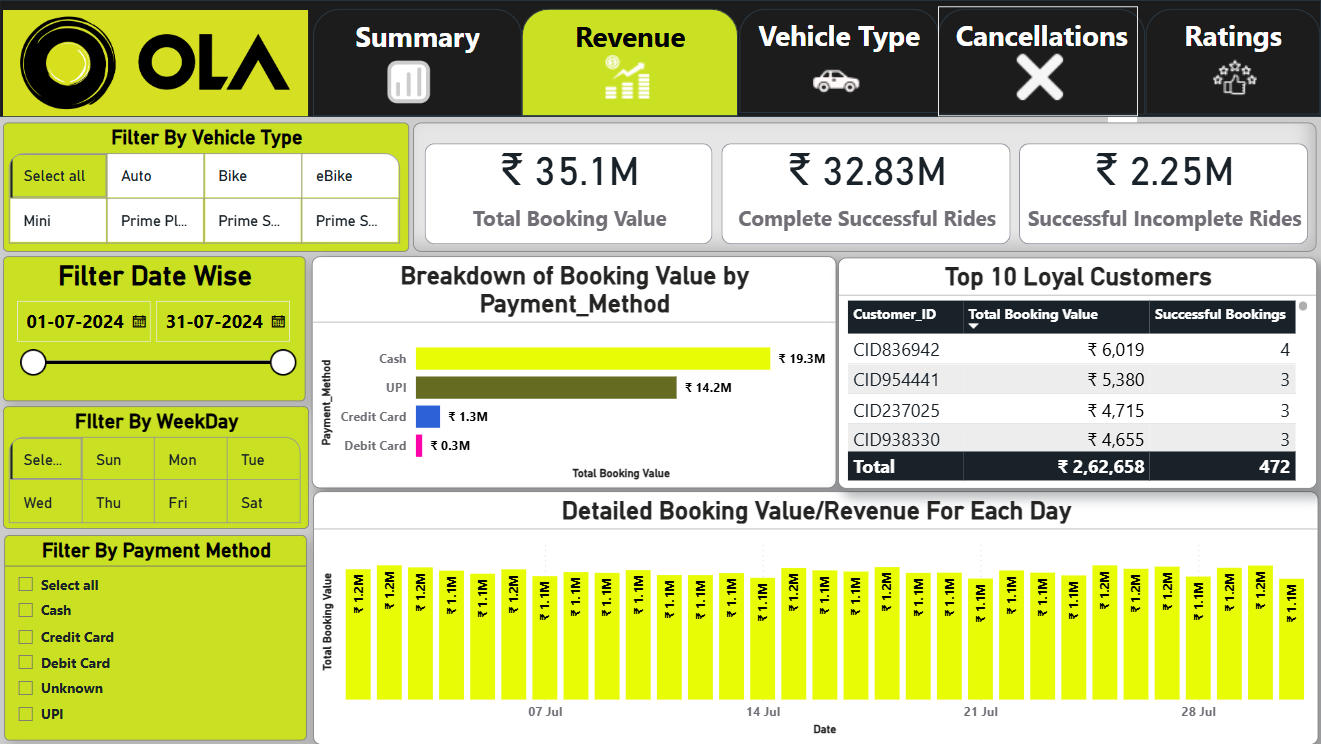

The page's visual inventory and layout, read from the dashboard file:
{"tool":"powerbi","page":{"name":"Revenue","canvas":[1280,720],"ordinal":1},"visuals":[{"type":"shape","box":[1.3,0,1276.2,112.9],"z":0},{"type":"group","id":"g1","title":"Group 3","box":[5.1,9.1,294.3,102.8],"z":1000},{"type":"group","id":"g2","title":"Group 1","box":[304.1,8.9,201.7,103.8],"z":2000},{"type":"shape","box":[304.1,8.9,201.7,103.8],"z":2000,"group":"g2"},{"type":"shape","box":[5.1,9.1,294.3,102.8],"z":2000,"group":"g1"},{"type":"group","id":"g3","title":"Group 2","box":[505.8,8.9,209.1,103.8],"z":3000},{"type":"shape","box":[505.8,8.9,209.1,103.8],"z":3000,"group":"g3"},{"type":"image","box":[5.1,9.1,294.3,102.8],"z":3000,"group":"g1"},{"type":"group","id":"g4","title":"Group 4","box":[714.9,8.9,192.8,101],"z":4000},{"type":"shape","box":[714.9,8.9,192.8,100.9],"z":4000,"group":"g4"},{"type":"group","id":"g5","title":"Group 5","box":[907.7,8.9,200.2,102.3],"z":5000},{"type":"shape","box":[907.7,8.9,200.2,102.3],"z":5000,"group":"g5"},{"type":"group","id":"g6","title":"Group 6","box":[1107.9,8.9,169.1,102.3],"z":6000},{"type":"shape","box":[1107.9,8.9,169.1,102.3],"z":6000,"group":"g6"},{"type":"actionButton","box":[298.1,7.4,209.1,106.8],"z":7000},{"type":"image","box":[580.3,47.6,54.9,54.9],"z":7001,"group":"g3"},{"type":"image","box":[781.8,55,54.9,54.9],"z":7002,"group":"g4"},{"type":"image","box":[979.3,47.6,54.9,54.9],"z":7003,"group":"g5"},{"type":"image","box":[1167.3,47.6,54.9,54.9],"z":7004,"group":"g6"},{"type":"actionButton","box":[714.9,4.4,192.8,106.8],"z":8000},{"type":"image","box":[369.3,52.1,54.9,54.9],"z":8500,"group":"g2"},{"type":"actionButton","box":[907.7,5.9,192.8,106.8],"z":9000},{"type":"actionButton","box":[1107.9,7.4,172.1,103.8],"z":10000},{"type":"actionButton","box":[505.8,4.4,209.1,106.8],"z":11000},{"type":"slicer","title":"Filter By Payment Method","fields":{"Values":["OLA Dataset.Payment_Method"]},"box":[5.8,516.5,292.2,198.2],"z":12000},{"type":"slicer","title":"Filter Date Wise","fields":{"Values":["OLA Dataset.Date"]},"box":[4.3,247.4,292.2,140.3],"z":13000},{"type":"advancedSlicerVisual","title":"FIlter By WeekDay","fields":{"Values":["OLA Dataset.Day Name"]},"box":[4.3,392,295.1,118.6],"z":14000},{"type":"advancedSlicerVisual","title":"Filter By Vehicle Type","fields":{"Values":["OLA Dataset.Vehicle_Type"]},"box":[4.3,118.6,392,124.4],"z":15000},{"type":"cardVisual","fields":{"Data":["OLA Dataset.Successful Booking Value","OLA Dataset.Amount From Complete Successful Rides","OLA Dataset.Amount From Incomplete Successful Rides"]},"box":[400.7,118.6,872.3,124.4],"z":16000},{"type":"clusteredBarChart","title":"Breakdown of Booking Value by Payment_Method","fields":{"Category":["OLA Dataset.Payment_Method"],"Y":["OLA Dataset.Total Booking Value"]},"box":[302.4,247.4,506.3,224.2],"z":17000},{"type":"clusteredColumnChart","title":"Detailed Booking Value/Revenue For Each Day","fields":{"Category":["OLA Dataset.Date"],"Y":["OLA Dataset.Total Booking Value"]},"box":[303.8,474.5,970.7,244.5],"z":18000},{"type":"tableEx","title":"Top 10 Loyal Customers","fields":{"Values":["OLA Dataset.Customer_ID","OLA Dataset.Total Booking Value","OLA Dataset.Successful Bookings"]},"box":[810.7,248.2,462.5,223.2],"z":19000}]}

Visuals, with their boxes in screenshot pixels (x1, y1, x2, y2), scaled from the page's 1280x720 canvas onto the 1321x744 screenshot:
shape: [x1=1, y1=0, x2=1318, y2=117]
"Group 3" group: [x1=5, y1=9, x2=309, y2=116]
"Group 1" group: [x1=314, y1=9, x2=522, y2=116]
shape: [x1=314, y1=9, x2=522, y2=116]
shape: [x1=5, y1=9, x2=309, y2=116]
"Group 2" group: [x1=522, y1=9, x2=738, y2=116]
shape: [x1=522, y1=9, x2=738, y2=116]
image: [x1=5, y1=9, x2=309, y2=116]
"Group 4" group: [x1=738, y1=9, x2=937, y2=114]
shape: [x1=738, y1=9, x2=937, y2=113]
"Group 5" group: [x1=937, y1=9, x2=1143, y2=115]
shape: [x1=937, y1=9, x2=1143, y2=115]
"Group 6" group: [x1=1143, y1=9, x2=1318, y2=115]
shape: [x1=1143, y1=9, x2=1318, y2=115]
actionButton: [x1=308, y1=8, x2=523, y2=118]
image: [x1=599, y1=49, x2=656, y2=106]
image: [x1=807, y1=57, x2=864, y2=114]
image: [x1=1011, y1=49, x2=1067, y2=106]
image: [x1=1205, y1=49, x2=1261, y2=106]
actionButton: [x1=738, y1=5, x2=937, y2=115]
image: [x1=381, y1=54, x2=438, y2=111]
actionButton: [x1=937, y1=6, x2=1136, y2=116]
actionButton: [x1=1143, y1=8, x2=1320, y2=115]
actionButton: [x1=522, y1=5, x2=738, y2=115]
"Filter By Payment Method" slicer: [x1=6, y1=534, x2=308, y2=739]
"Filter Date Wise" slicer: [x1=4, y1=256, x2=306, y2=401]
"FIlter By WeekDay" advancedSlicerVisual: [x1=4, y1=405, x2=309, y2=528]
"Filter By Vehicle Type" advancedSlicerVisual: [x1=4, y1=123, x2=409, y2=251]
cardVisual - OLA Dataset.Successful Booking Value x OLA Dataset.Amount From Complete Successful Rides: [x1=414, y1=123, x2=1314, y2=251]
"Breakdown of Booking Value by Payment_Method" clusteredBarChart: [x1=312, y1=256, x2=835, y2=487]
"Detailed Booking Value/Revenue For Each Day" clusteredColumnChart: [x1=314, y1=490, x2=1315, y2=743]
"Top 10 Loyal Customers" tableEx: [x1=837, y1=256, x2=1314, y2=487]
